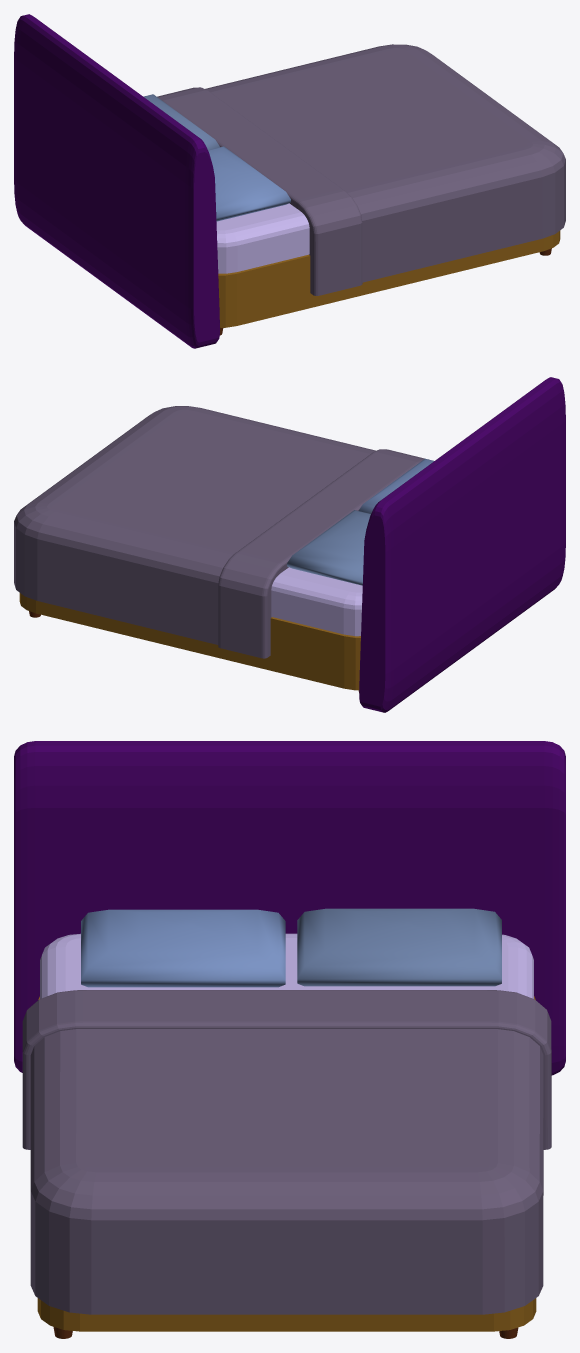
File: Bed.fbx
3 renders of one model, top to bottom at view 1: azimuth 30°, elevation 25°; view 2: azimuth 150°, elevation 25°; view 3: azimuth 270°, elevation 25°, orthographic. The views are drawn at different scales.
Parts seen in each view (by area): view 1: Cube.004, Cube.002, Cube, Cube.001, Cube.005, Cube.003; view 2: Cube.004, Cube.002, Cube, Cube.001, Cube.003, Cube.005; view 3: Cube.004, Cube.002, Cube.005, Cube.003, Cube, Cube.001.
Boxes of the visible parts, x1,y1,x2,y2 form: Cube.004: (157,44,565,295); Cube.002: (14,14,219,348); Cube: (218,230,560,327); Cube.001: (216,203,309,273); Cube.005: (208,146,290,221); Cube.003: (143,94,219,149); Cube.004: (14,406,424,658); Cube.002: (359,377,565,712); Cube: (19,593,360,690); Cube.001: (271,567,362,636); Cube.003: (287,510,370,585); Cube.005: (358,458,433,513); Cube.004: (22,990,551,1314); Cube.002: (14,741,565,1075); Cube.005: (81,909,285,987); Cube.003: (297,908,501,986); Cube: (37,996,536,1331); Cube.001: (40,933,533,998).
Bounding box in the file's own units: 989 × 504 × 781.
